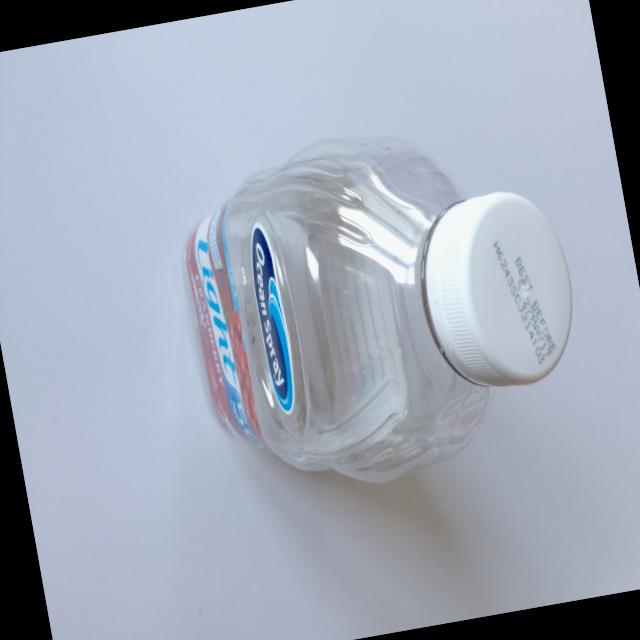Plastic: (138, 74, 620, 558)
